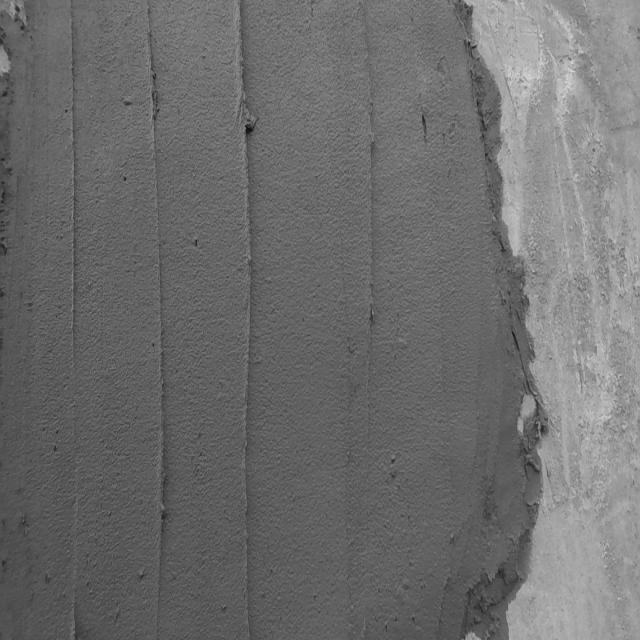trowels marks: (146, 8, 174, 600), (234, 11, 256, 632), (362, 19, 376, 460), (66, 3, 82, 383)
